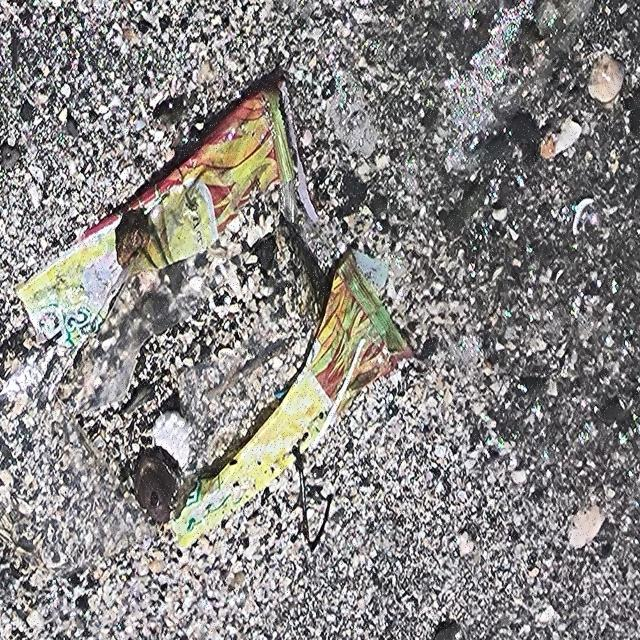plastic_waste: (168, 252, 417, 556), (15, 86, 298, 352)
